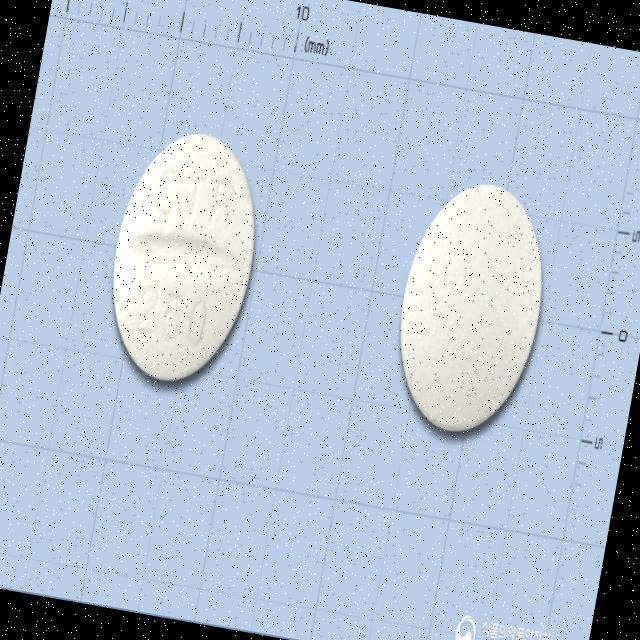Citro: (378, 168, 564, 448), (91, 118, 276, 396)
